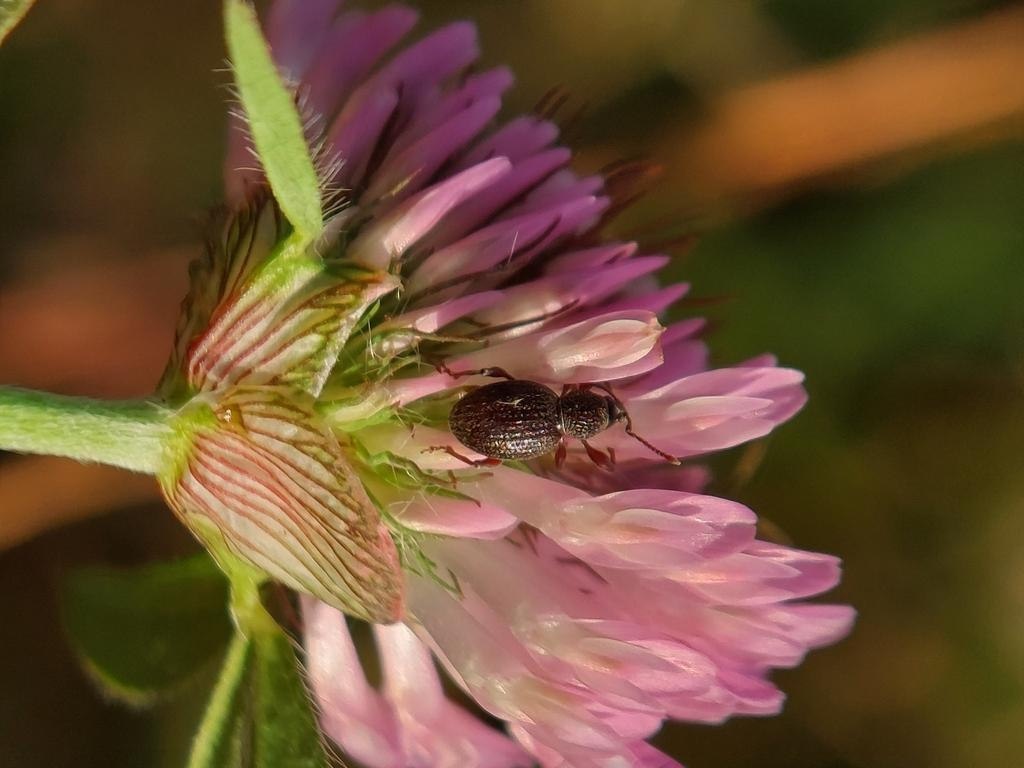weevils: (400, 330, 712, 519)
